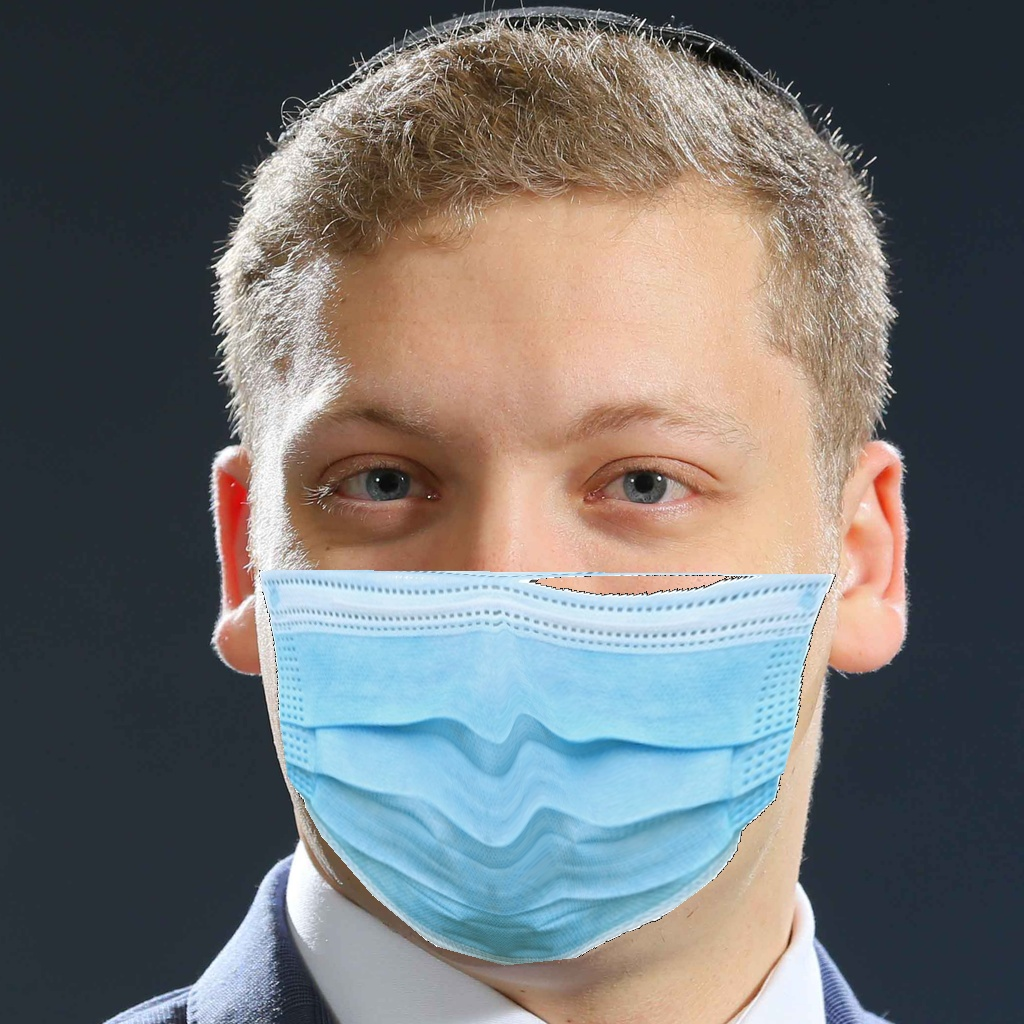with_mask: (252, 398, 835, 966)
